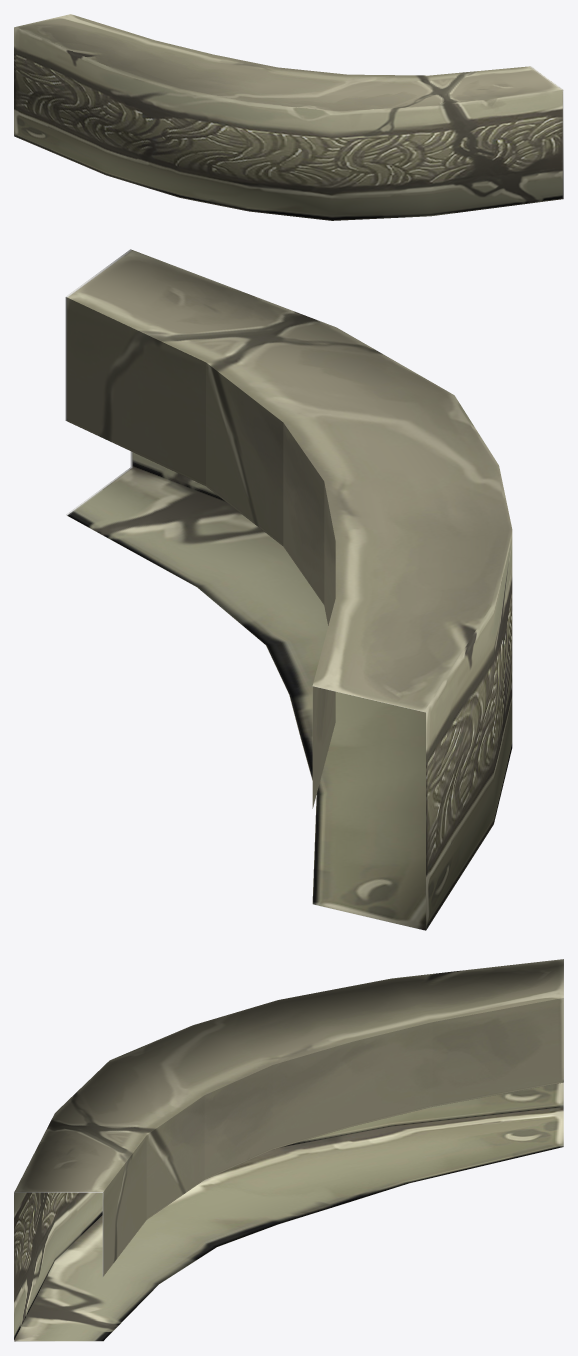
File: wall_convex2_top.fbx
3 views of the same model, one above another, from view 1: azimuth 30°, elevation 25°; view 2: azimuth 150°, elevation 25°; view 3: azimuth 270°, elevation 25° (orthographic). The views are drawn at different scales.
Parts seen in each view (by area): view 1: concave1_v_cap; view 2: concave1_v_cap; view 3: concave1_v_cap.
Part boxes in pixels (box(x1,y1,x2,y2)): concave1_v_cap: box(14, 14, 563, 220); concave1_v_cap: box(65, 249, 512, 930); concave1_v_cap: box(14, 959, 563, 1341).
Bounding box in the file's own units: 2.39 × 0.718 × 2.39.
